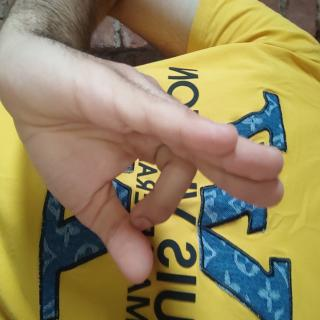Space: (12, 35, 214, 320)
